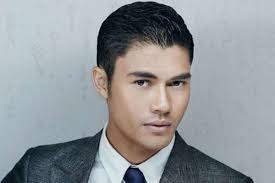asian_male: (85, 2, 202, 155)
